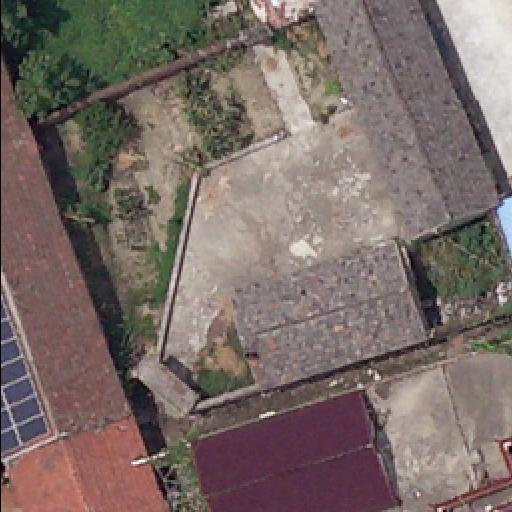solar-panel: (0, 248, 56, 454)
